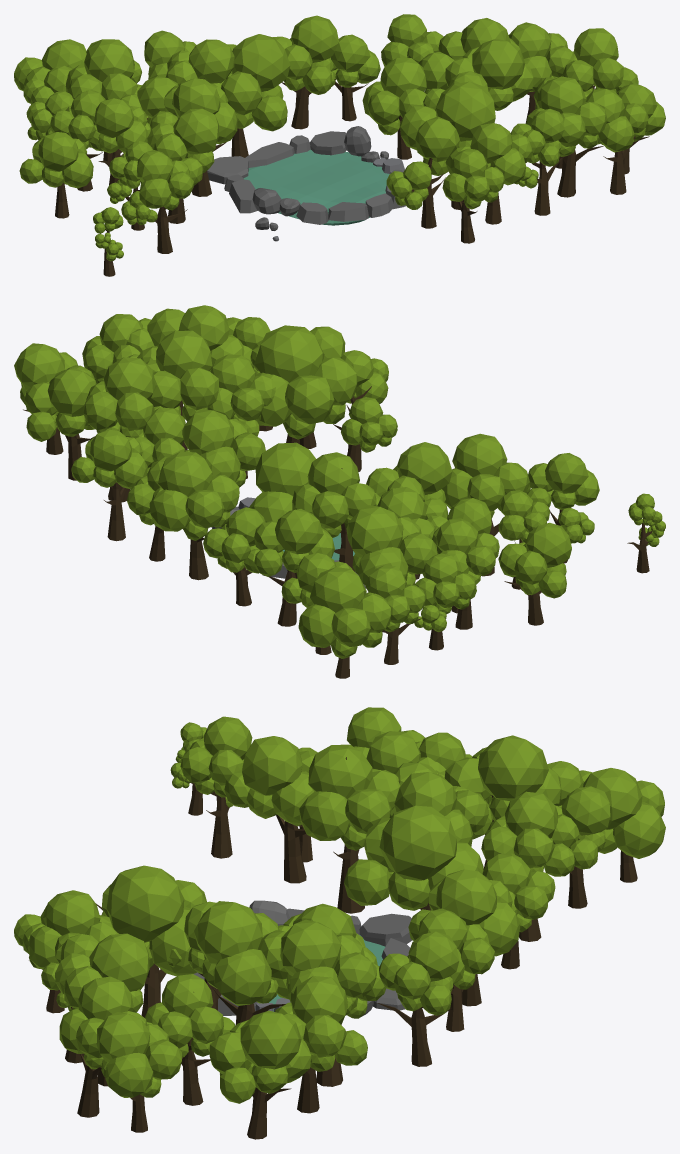
File: ambienteDePezLindo.fbx
3 renders of one model, top to bottom at view 1: azimuth 30°, elevation 25°; view 2: azimuth 150°, elevation 25°; view 3: azimuth 270°, elevation 25°, orthographic. The views are drawn at different scales.
Visible parts, largest first — view 1: agua, hojas4.040, hojas4.025, piedra4, hojas4.011, hojas4.034, hojas4.039, hojas4.033, hojas4.015, hojas4.023, hojas4.019, hojas4.036 (+36 smaller); view 2: hojas4.040, hojas4.028, hojas4.011, hojas4.023, hojas4.034, hojas4.010, hojas4.015, hojas4.024, hojas4.033, hojas4.019, hojas4.035, hojas4.006 (+29 smaller); view 3: hojas4.025, hojas4.034, hojas4.014, hojas4.040, hojas4.036, hojas4.023, hojas4.015, hojas4.037, hojas4.010, hojas4.035, hojas4.006, hojas4.028 (+33 smaller).
Boxes of the visible parts, left/top/right/bottom form: agua: left=243, top=149, right=389, bottom=225; hojas4.040: left=400, top=81, right=495, bottom=176; hojas4.025: left=221, top=34, right=290, bottom=131; piedra4: left=245, top=131, right=405, bottom=224; hojas4.011: left=273, top=15, right=338, bottom=94; hojas4.034: left=445, top=38, right=533, bottom=110; hojas4.039: left=526, top=76, right=607, bottom=156; hojas4.033: left=362, top=58, right=426, bottom=135; hojas4.015: left=147, top=108, right=219, bottom=185; hojas4.023: left=65, top=39, right=141, bottom=99; hojas4.019: left=19, top=132, right=93, bottom=188; hojas4.036: left=562, top=28, right=638, bottom=93; hojas4.040: left=254, top=325, right=357, bottom=439; hojas4.028: left=298, top=567, right=390, bottom=658; hojas4.011: left=149, top=451, right=239, bottom=540; hojas4.023: left=346, top=505, right=437, bottom=585; hojas4.034: left=146, top=330, right=218, bottom=421; hojas4.010: left=83, top=357, right=162, bottom=438; hojas4.015: left=442, top=433, right=530, bottom=518; hojas4.024: left=292, top=452, right=380, bottom=537; hojas4.033: left=182, top=409, right=265, bottom=487; hojas4.019: left=498, top=522, right=571, bottom=598; hojas4.035: left=24, top=368, right=96, bottom=441; hojas4.006: left=254, top=509, right=334, bottom=576; hojas4.025: left=344, top=805, right=483, bottom=910; hojas4.034: left=194, top=901, right=288, bottom=1005; hojas4.014: left=299, top=744, right=400, bottom=850; hojas4.040: left=99, top=865, right=206, bottom=976; hojas4.036: left=209, top=1010, right=311, bottom=1103; hojas4.023: left=444, top=735, right=561, bottom=839; hojas4.015: left=224, top=736, right=316, bottom=826; hojas4.037: left=96, top=1012, right=181, bottom=1097; hojas4.010: left=280, top=919, right=376, bottom=1015; hojas4.035: left=275, top=976, right=367, bottom=1071; hojas4.006: left=481, top=791, right=575, bottom=876; hojas4.028: left=583, top=768, right=665, bottom=858.
Size of the model in its own units: 103 by 24 by 79.39.
